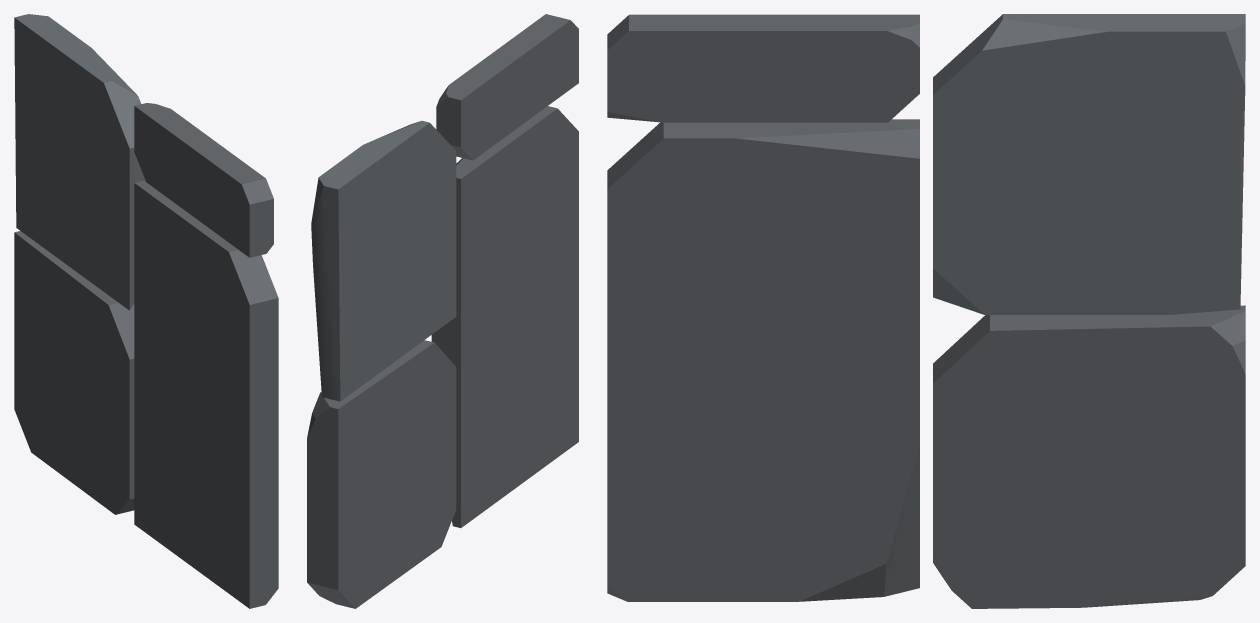
File: TileBroke.fbx
3 renders of one model, left to right at view 1: azimuth 30°, elevation 25°; view 2: azimuth 150°, elevation 25°; view 3: azimuth 270°, elevation 25°, orthographic. The views are drawn at different scales.
Parts seen in each view (by area): view 1: Tile_01__3__fracturepart8, Tile_01__3__fracturepart7, Tile_01__3__fracturepart3_2, Tile_01__3__fracturepart5, Tile_01__3__fracturepart2_2, Tile_01__3__fracturepart6_3, Tile_01__3__fracturepart2, Tile_01__3__fracturepart1_2, Tile_01__3__fracturepart6, Tile_01__3__fracturepart7_2, Tile_01__3__fracturepart10, Tile_01__3__fracturepart1 (+5 smaller); view 2: Tile_01__3__fracturepart7, Tile_01__3__fracturepart3_2, Tile_01__3__fracturepart5, Tile_01__3__fracturepart1_2, Tile_01__3__fracturepart8, Tile_01__3__fracturepart2_2, Tile_01__3__fracturepart6_3, Tile_01__3__fracturepart6, Tile_01__3__fracturepart1, Tile_01__3__fracturepart2, Tile_01__3__fracturepart10, Tile_01__3__fracturepart7_2 (+5 smaller); view 3: Tile_01__3__fracturepart7, Tile_01__3__fracturepart3_2, Tile_01__3__fracturepart8, Tile_01__3__fracturepart10, Tile_01__3__fracturepart2_2, Tile_01__3__fracturepart6_3, Tile_01__3__fracturepart5, Tile_01__3__fracturepart2, Tile_01__3__fracturepart6, Tile_01__3__fracturepart1_2, Tile_01__3__fracturepart1, Tile_01__3__fracturepart7_2 (+6 smaller).
Part boxes in pixels (left/top/right/bottom): Tile_01__3__fracturepart8: left=191, top=298, right=278, bottom=608; Tile_01__3__fracturepart7: left=134, top=336, right=242, bottom=603; Tile_01__3__fracturepart3_2: left=14, top=280, right=134, bottom=514; Tile_01__3__fracturepart5: left=14, top=14, right=81, bottom=204; Tile_01__3__fracturepart2_2: left=175, top=218, right=278, bottom=364; Tile_01__3__fracturepart6_3: left=65, top=92, right=145, bottom=249; Tile_01__3__fracturepart2: left=185, top=146, right=273, bottom=257; Tile_01__3__fracturepart1_2: left=14, top=231, right=87, bottom=383; Tile_01__3__fracturepart6: left=134, top=103, right=221, bottom=203; Tile_01__3__fracturepart7_2: left=99, top=324, right=134, bottom=512; Tile_01__3__fracturepart10: left=55, top=21, right=135, bottom=162; Tile_01__3__fracturepart1: left=15, top=157, right=85, bottom=278; Tile_01__3__fracturepart7: left=431, top=279, right=571, bottom=527; Tile_01__3__fracturepart3_2: left=307, top=354, right=443, bottom=608; Tile_01__3__fracturepart5: left=311, top=156, right=407, bottom=329; Tile_01__3__fracturepart1_2: left=307, top=360, right=409, bottom=563; Tile_01__3__fracturepart8: left=519, top=130, right=578, bottom=446; Tile_01__3__fracturepart2_2: left=503, top=106, right=576, bottom=279; Tile_01__3__fracturepart6_3: left=390, top=129, right=456, bottom=319; Tile_01__3__fracturepart6: left=436, top=46, right=525, bottom=160; Tile_01__3__fracturepart1: left=317, top=306, right=411, bottom=401; Tile_01__3__fracturepart2: left=501, top=14, right=578, bottom=130; Tile_01__3__fracturepart10: left=326, top=120, right=435, bottom=237; Tile_01__3__fracturepart7_2: left=425, top=354, right=456, bottom=540; Tile_01__3__fracturepart7: left=621, top=320, right=919, bottom=601; Tile_01__3__fracturepart3_2: left=964, top=315, right=1245, bottom=608; Tile_01__3__fracturepart8: left=607, top=167, right=757, bottom=598; Tile_01__3__fracturepart10: left=986, top=14, right=1206, bottom=235; Tile_01__3__fracturepart2_2: left=607, top=122, right=798, bottom=329; Tile_01__3__fracturepart6_3: left=933, top=29, right=1110, bottom=261; Tile_01__3__fracturepart5: left=1113, top=14, right=1245, bottom=235; Tile_01__3__fracturepart2: left=607, top=14, right=772, bottom=122; Tile_01__3__fracturepart6: left=747, top=14, right=919, bottom=122; Tile_01__3__fracturepart1_2: left=1070, top=305, right=1245, bottom=481; Tile_01__3__fracturepart1: left=1067, top=216, right=1242, bottom=314; Tile_01__3__fracturepart7_2: left=933, top=336, right=1012, bottom=601.
Size of the model in its own units: 7.22 by 95.34 by 95.98.
Materials: 1 (1 with a texture image).
